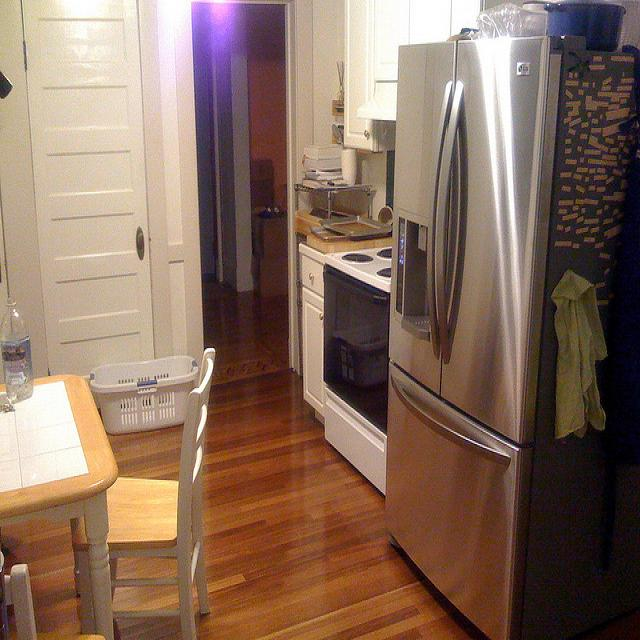chair: (71, 346, 215, 630), (5, 562, 103, 640)
dining table: (0, 371, 116, 629)
